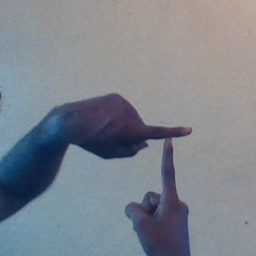T: (113, 99, 211, 217)
